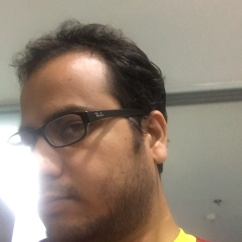glasses: (9, 123, 98, 150)
